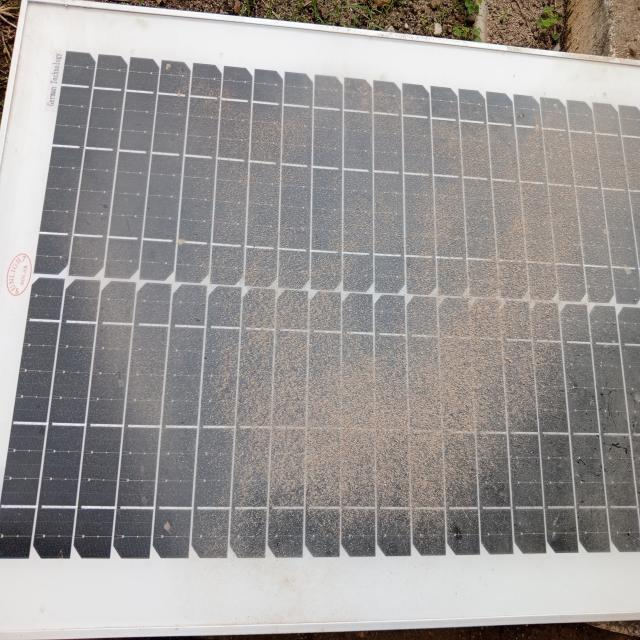Anomaly Solar Panel: (8, 36, 638, 570)
Surface Contaminant: (220, 74, 639, 536)
